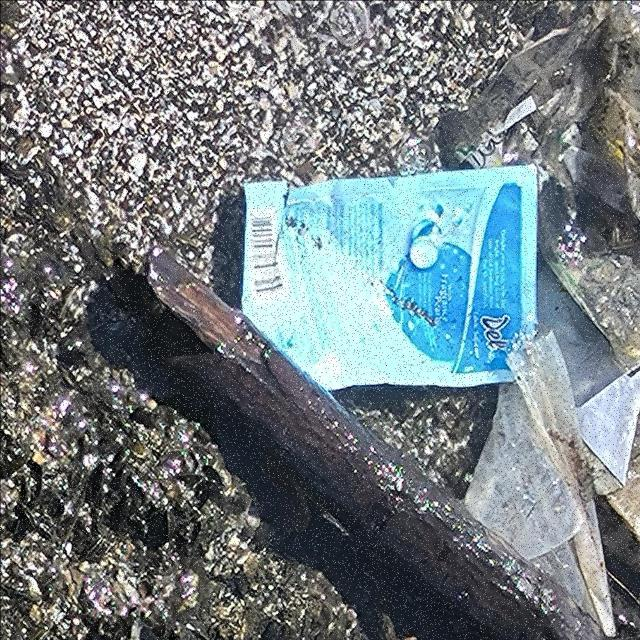plastic_waste: (241, 166, 540, 393)
